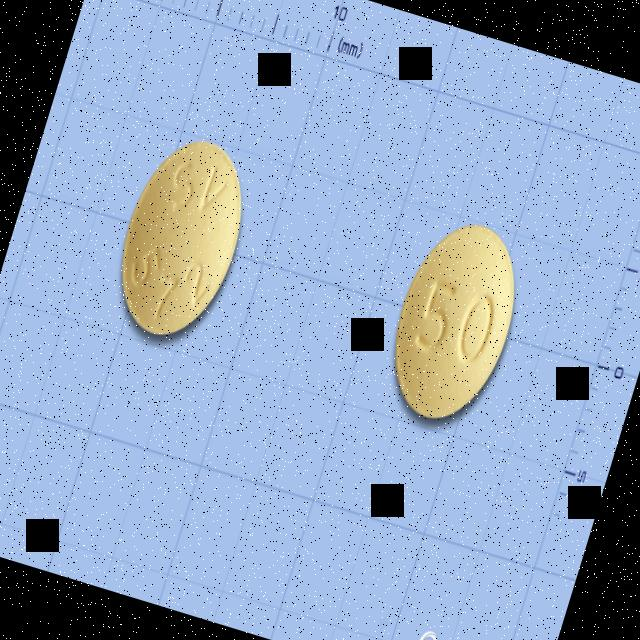Tivicay Tab: (99, 122, 265, 351), (372, 208, 536, 437)
